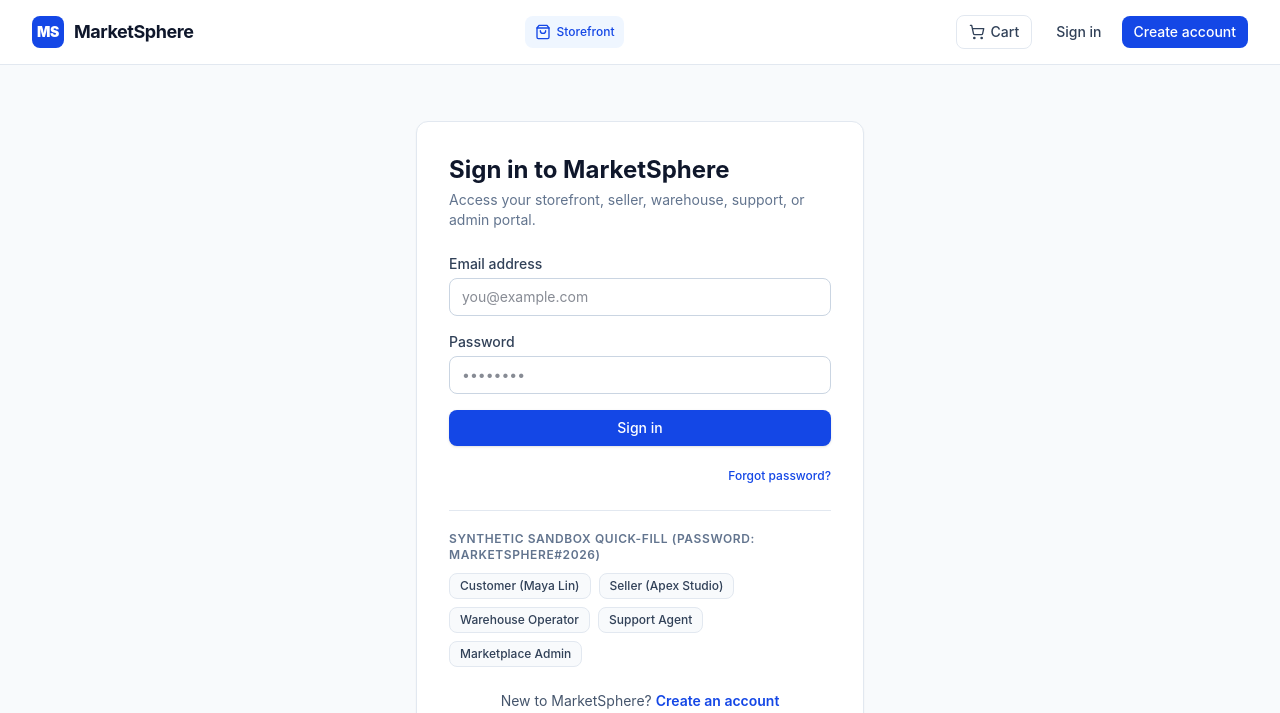
it: MarketSphere Frontend Components & Auth Validation › renders login form, quick-fill sandbox buttons, and validates bad email input
Expected: the heading "Sign in to MarketSphere" is shown, [449,155,730,184]
Click the button "Customer (Maya Lin)": click(520, 586) [449,573,590,599]
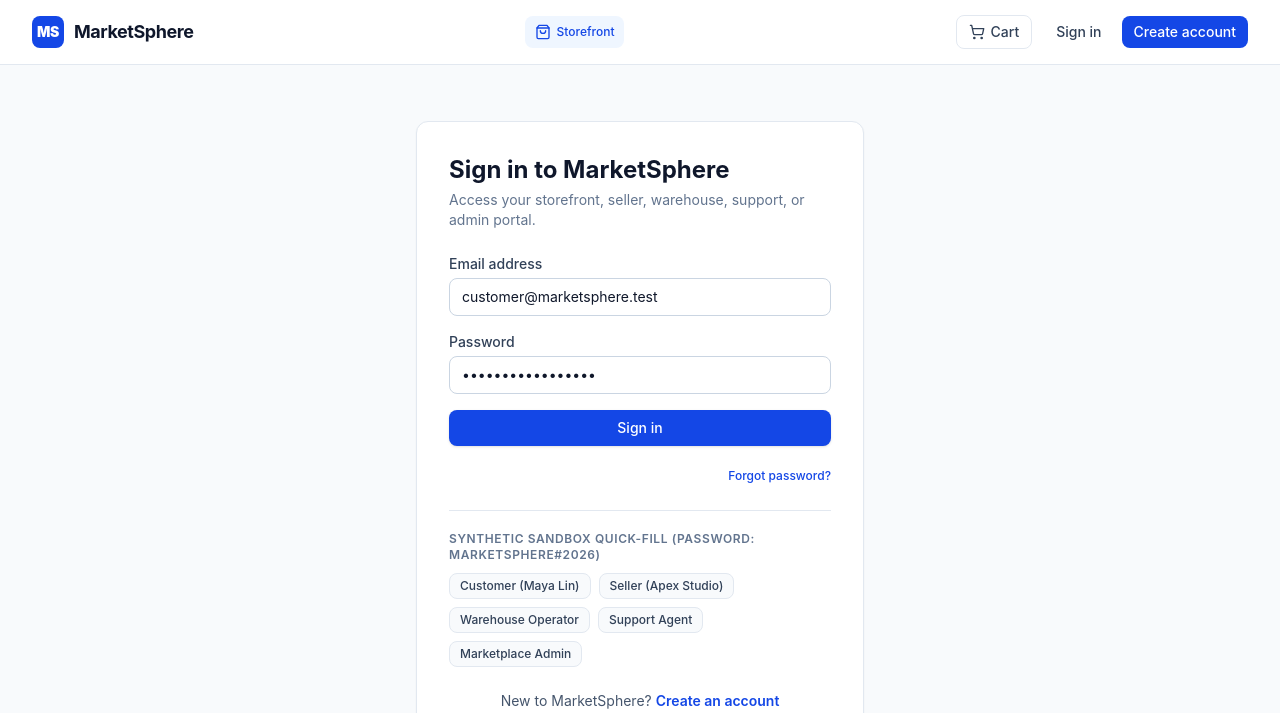
Result: the field labelled "Email address" holds "customer@marketsphere.test"
// Clear and submit empty to verify validation error
Replace the text in the field labelled "Email address" with "invalid-email": (640, 297) [449,278,831,316]
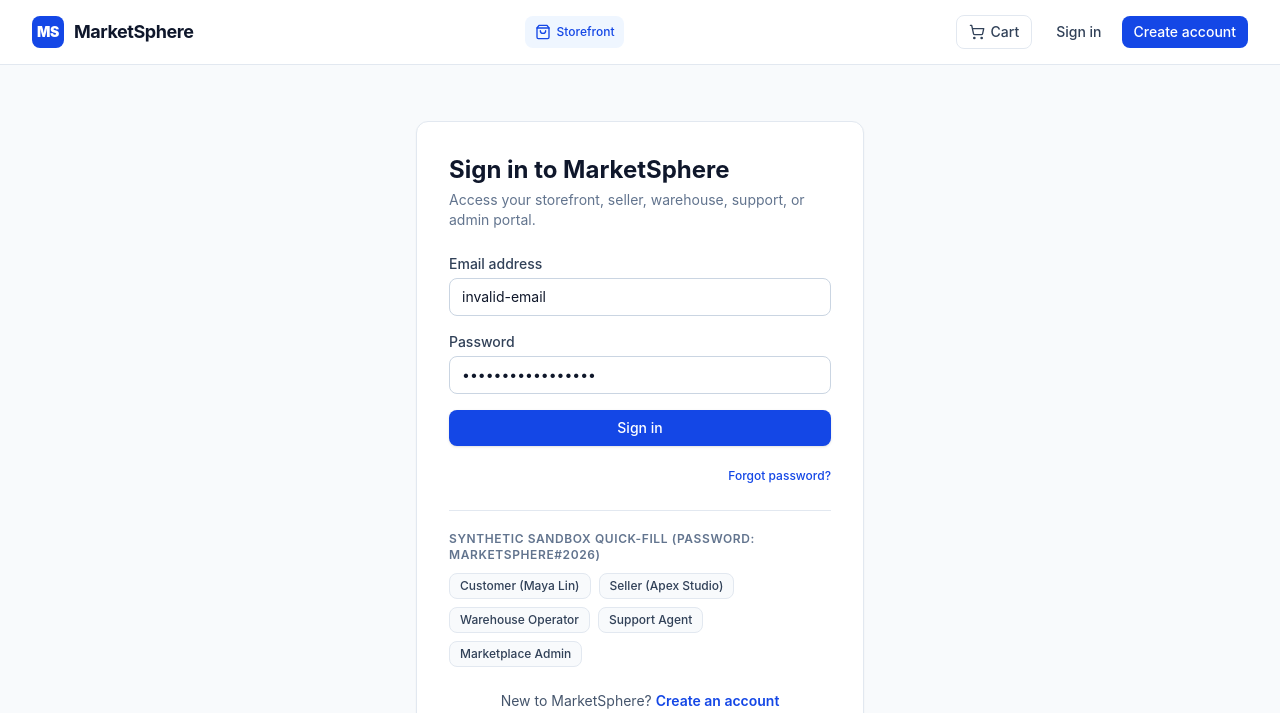
Click the button "Sign in": click(640, 428) [449,410,831,446]
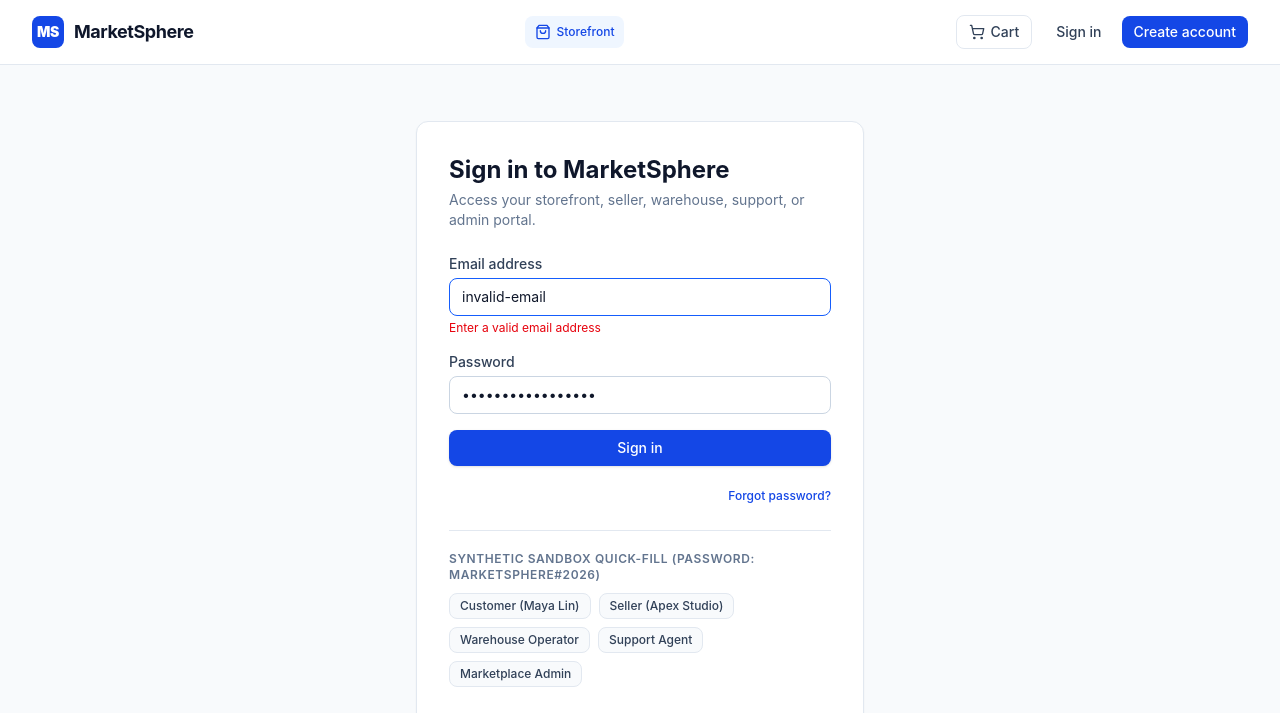
Result: the text "Enter a valid email address" is shown at [449,320,601,335]
